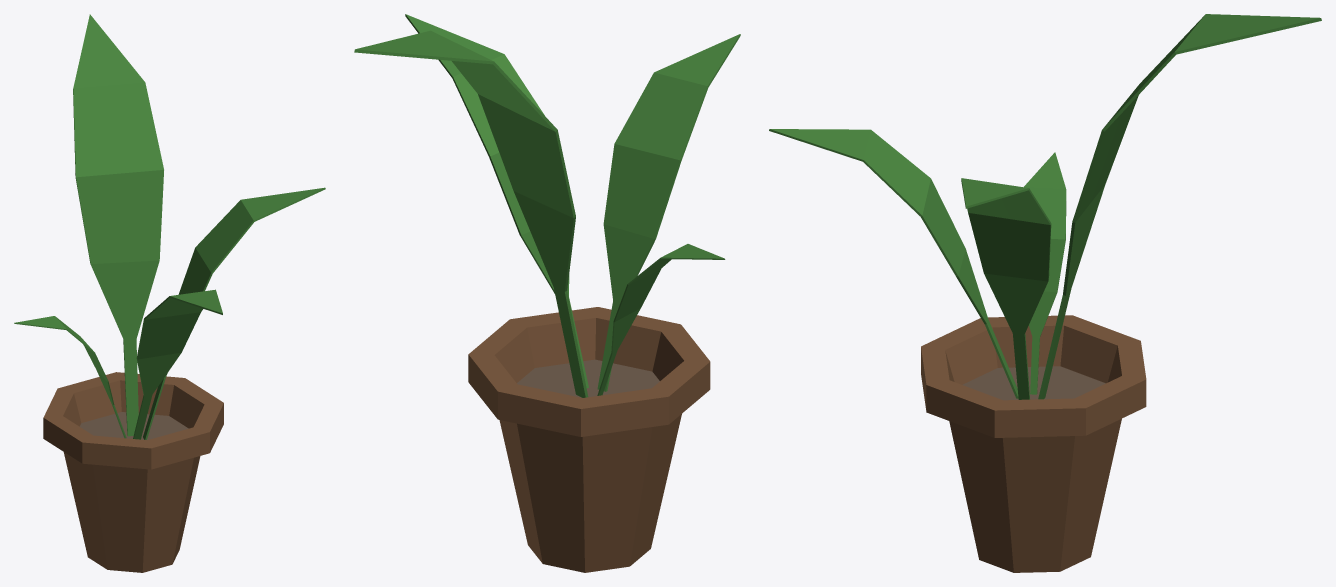
File: Flower_41.fbx
3 views of the same model, side by side, from view 1: azimuth 30°, elevation 25°; view 2: azimuth 150°, elevation 25°; view 3: azimuth 270°, elevation 25° (orthographic). The views are drawn at different scales.
Parts seen in each view (by area): view 1: Flower_41; view 2: Flower_41; view 3: Flower_41.
Boxes of the visible parts, box(x1,y1,x2,y2) form: Flower_41: box(14, 14, 325, 572); Flower_41: box(354, 14, 740, 572); Flower_41: box(769, 14, 1321, 572).
Size of the model in its own units: 56.48 by 75.25 by 86.09.
